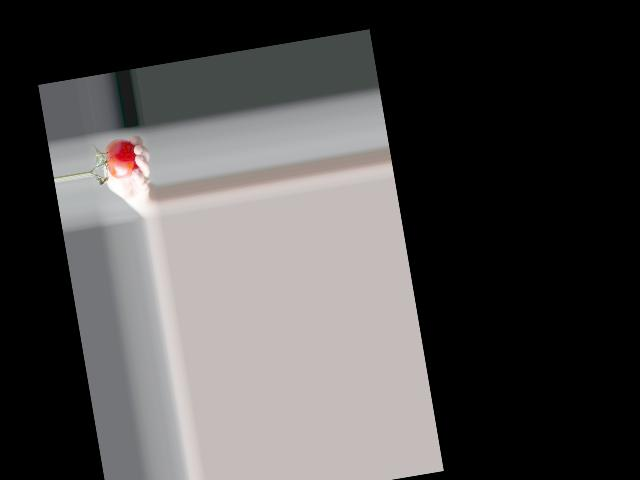tomato: (102, 136, 139, 181)
